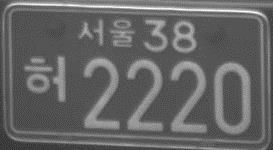0: (212, 60, 252, 135)
2: (125, 57, 165, 135), (169, 60, 210, 135), (81, 56, 123, 129)
3: (142, 17, 168, 53)
8: (171, 19, 198, 54)
서울_O: (76, 18, 135, 48)
허: (23, 53, 68, 104)
